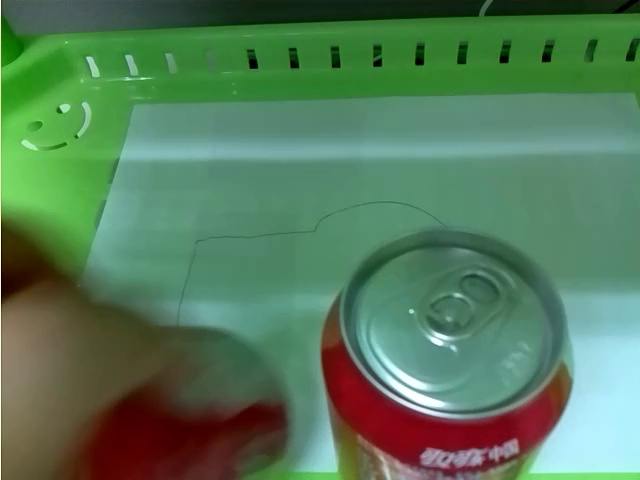cocacola: (319, 228, 575, 480)
